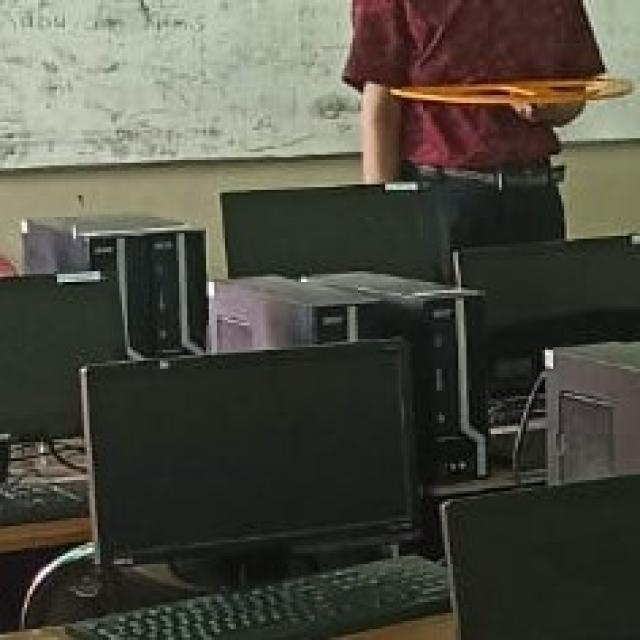offscreen: (88, 341, 408, 562), (224, 186, 436, 279), (462, 238, 640, 344)
